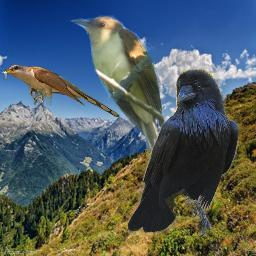Crow: (128, 68, 239, 237)
Cuckoo: (68, 14, 171, 183), (0, 64, 120, 117)
